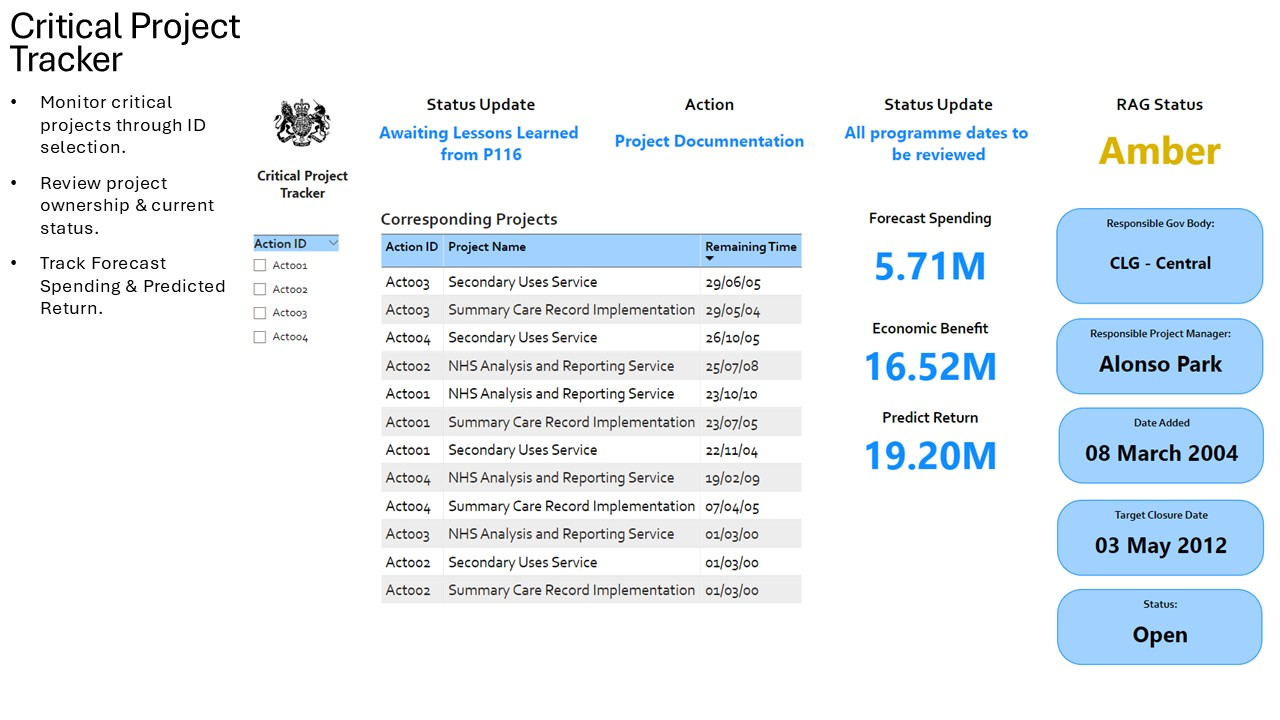

This screenshot's page, from the dashboard's own definition file:
{"tool":"powerbi","page":{"name":"Critical Project Tracker","canvas":[1280,720],"ordinal":6},"visuals":[{"type":"image","box":[32,0,80,96],"z":0},{"type":"textbox","box":[0,96.4,144,55.8],"z":1000},{"type":"tableEx","title":"Corresponding Projects","fields":{"Values":["Critical Action Tracker.Action ID","Project Register.Project Name","Critical Action Tracker.TimeTracker"]},"box":[161.5,152.2,543.6,499.5],"z":2000},{"type":"slicer","title":"Risk Level:","fields":{"Values":["Critical Action Tracker.Action ID"]},"box":[0,178.9,128.9,153.3],"z":3000},{"type":"card","title":"Status Update","fields":{"Values":["Min(Critical Action Tracker.Status Update String)"]},"box":[149.8,12.8,277.6,95.2],"z":4000},{"type":"card","title":"RAG Status","fields":{"Values":["Min(Critical Action Tracker.RAG)"]},"box":[971,12.8,283.4,111.5],"z":5000},{"type":"card","title":"Responsible Project Manager:","fields":{"Values":["Min(Project Register.Project Manager)"]},"box":[987.3,285.7,250.9,91.8],"z":6000},{"type":"card","title":"Responsible Gov Body:","fields":{"Values":["Min(Project Register.Responsible Government Body)"]},"box":[987.3,152.2,250.9,116.2],"z":7000},{"type":"card","title":"Date Added","fields":{"Values":["Min(Critical Action Tracker.Date Added )"]},"box":[989.6,393.8,248.6,91.8],"z":8000},{"type":"card","title":"Status:","fields":{"Values":["Min(Critical Action Tracker.Status)"]},"box":[988.5,613.3,248.6,91.8],"z":9000},{"type":"card","title":"Target Closure Date","fields":{"Values":["Min(Critical Action Tracker.Target Closure Date )"]},"box":[988.5,505.3,250.9,91.8],"z":10000},{"type":"card","title":"Action","fields":{"Values":["Min(Critical Action Tracker.Action Title)"]},"box":[427.4,12.8,277.6,95.2],"z":11000},{"type":"card","title":"Status Update","fields":{"Values":["Min(Critical Action Tracker.Action Details)"]},"box":[705,12.8,277.6,95.2],"z":12000},{"type":"card","title":"Forecast Spending","fields":{"Values":["Sum(Actualk Costs.Total Forecast)"]},"box":[719,152.2,230,116.2],"z":13000},{"type":"card","title":"Economic Benefit","fields":{"Values":["Sum(Business Case.Economic Benefits £'000)"]},"box":[719,285.7,230,91.8],"z":14000},{"type":"card","title":"Predict Return","fields":{"Values":["Sum(Business Case.Predicted Return on Investment)"]},"box":[719,393.8,230,91.8],"z":15000}]}

Visuals, with their boxes in screenshot pixels (x1, y1, x2, y2), scaled from the page's 1280x720 canvas onto the 1280x720 screenshot:
image: {"x1": 32, "y1": 0, "x2": 112, "y2": 96}
textbox: {"x1": 0, "y1": 96, "x2": 144, "y2": 152}
"Corresponding Projects" tableEx: {"x1": 162, "y1": 152, "x2": 705, "y2": 652}
"Risk Level:" slicer: {"x1": 0, "y1": 179, "x2": 129, "y2": 332}
"Status Update" card: {"x1": 150, "y1": 13, "x2": 427, "y2": 108}
"RAG Status" card: {"x1": 971, "y1": 13, "x2": 1254, "y2": 124}
"Responsible Project Manager:" card: {"x1": 987, "y1": 286, "x2": 1238, "y2": 378}
"Responsible Gov Body:" card: {"x1": 987, "y1": 152, "x2": 1238, "y2": 268}
"Date Added" card: {"x1": 990, "y1": 394, "x2": 1238, "y2": 486}
"Status:" card: {"x1": 988, "y1": 613, "x2": 1237, "y2": 705}
"Target Closure Date" card: {"x1": 988, "y1": 505, "x2": 1239, "y2": 597}
"Action" card: {"x1": 427, "y1": 13, "x2": 705, "y2": 108}
"Status Update" card: {"x1": 705, "y1": 13, "x2": 983, "y2": 108}
"Forecast Spending" card: {"x1": 719, "y1": 152, "x2": 949, "y2": 268}
"Economic Benefit" card: {"x1": 719, "y1": 286, "x2": 949, "y2": 378}
"Predict Return" card: {"x1": 719, "y1": 394, "x2": 949, "y2": 486}
